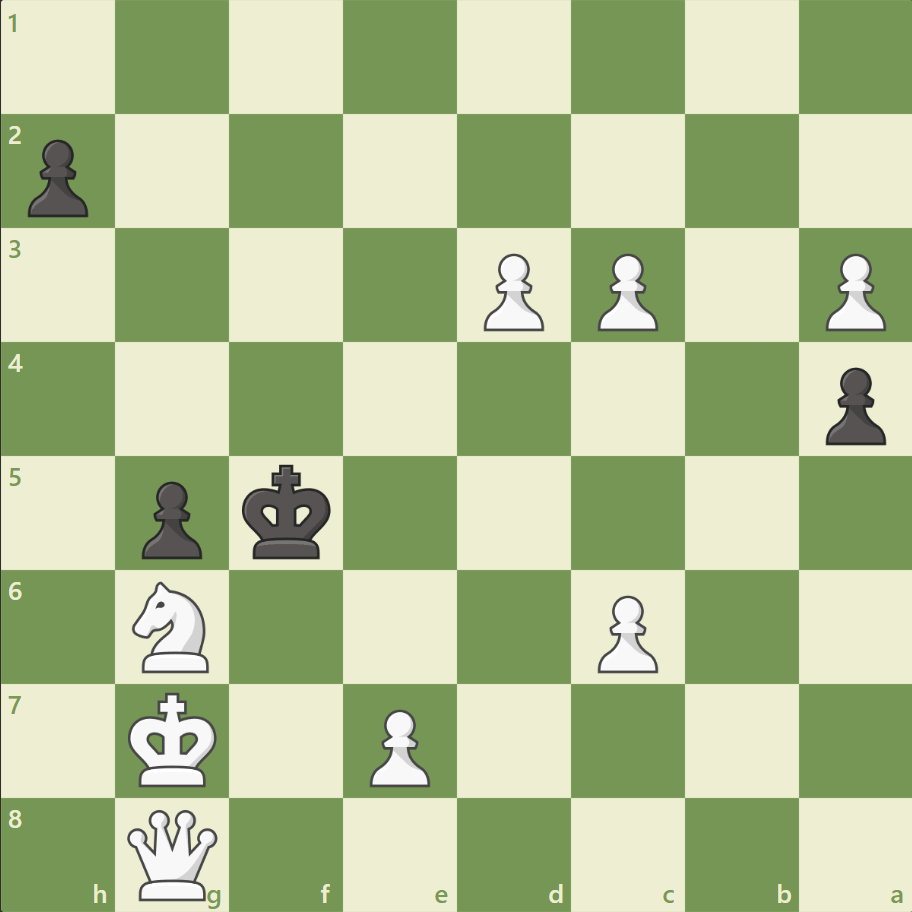K: (124, 685, 224, 793)
N: (124, 575, 222, 677)
P: (474, 246, 549, 337), (361, 700, 435, 791), (588, 586, 662, 677), (815, 246, 889, 337), (588, 246, 662, 337)
Q: (124, 804, 223, 903)
k: (238, 458, 338, 566)
p: (133, 473, 208, 564), (20, 132, 95, 223), (815, 359, 889, 450)
